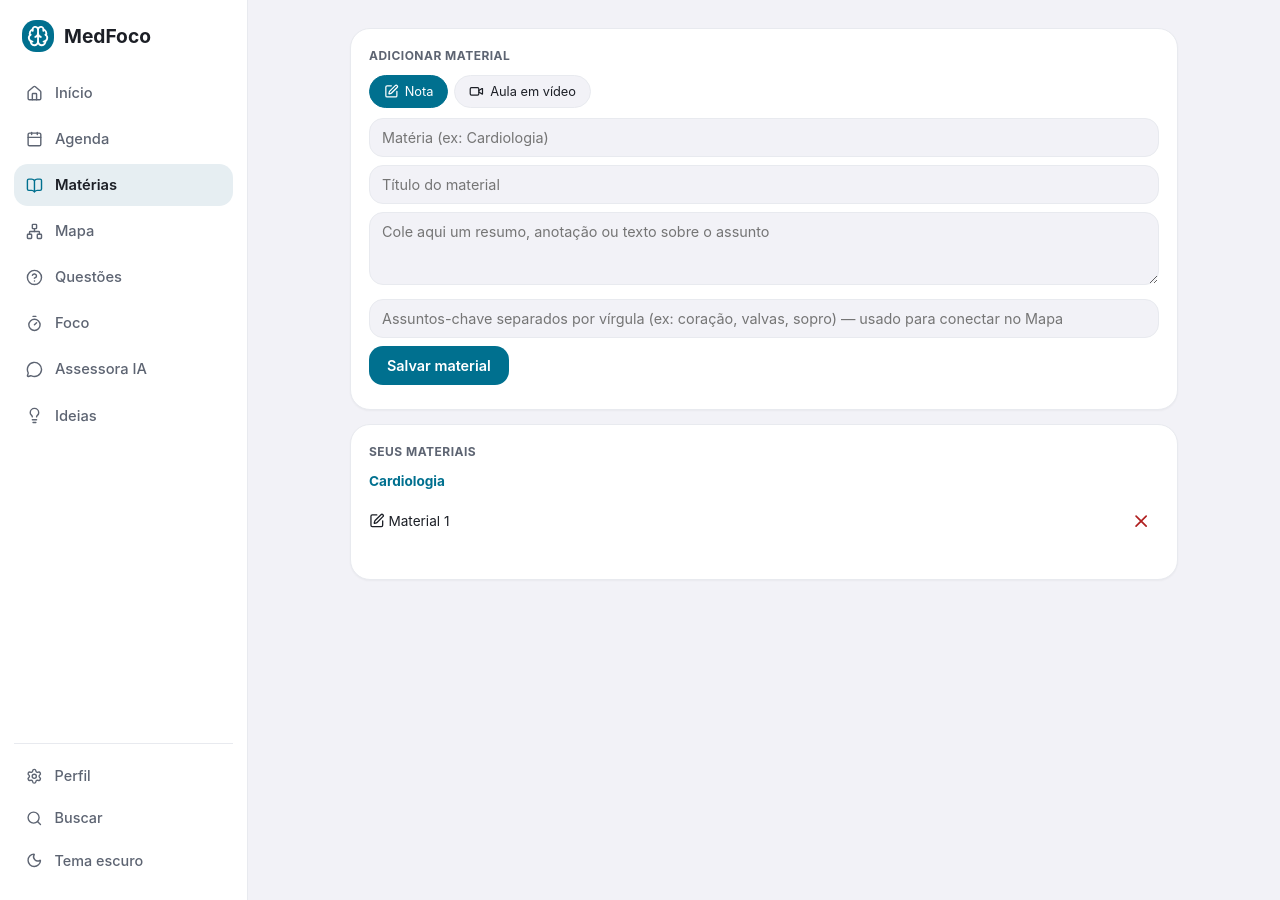
Matérias › exclusão › mostra erro acessível se a exclusão falhar e mantém o material
What coordinates should you click on to do the following:
click the button named "Excluir material Material 1"
I would click on:
 (1141, 521)
Its box is 1123,503 -> 1159,539.
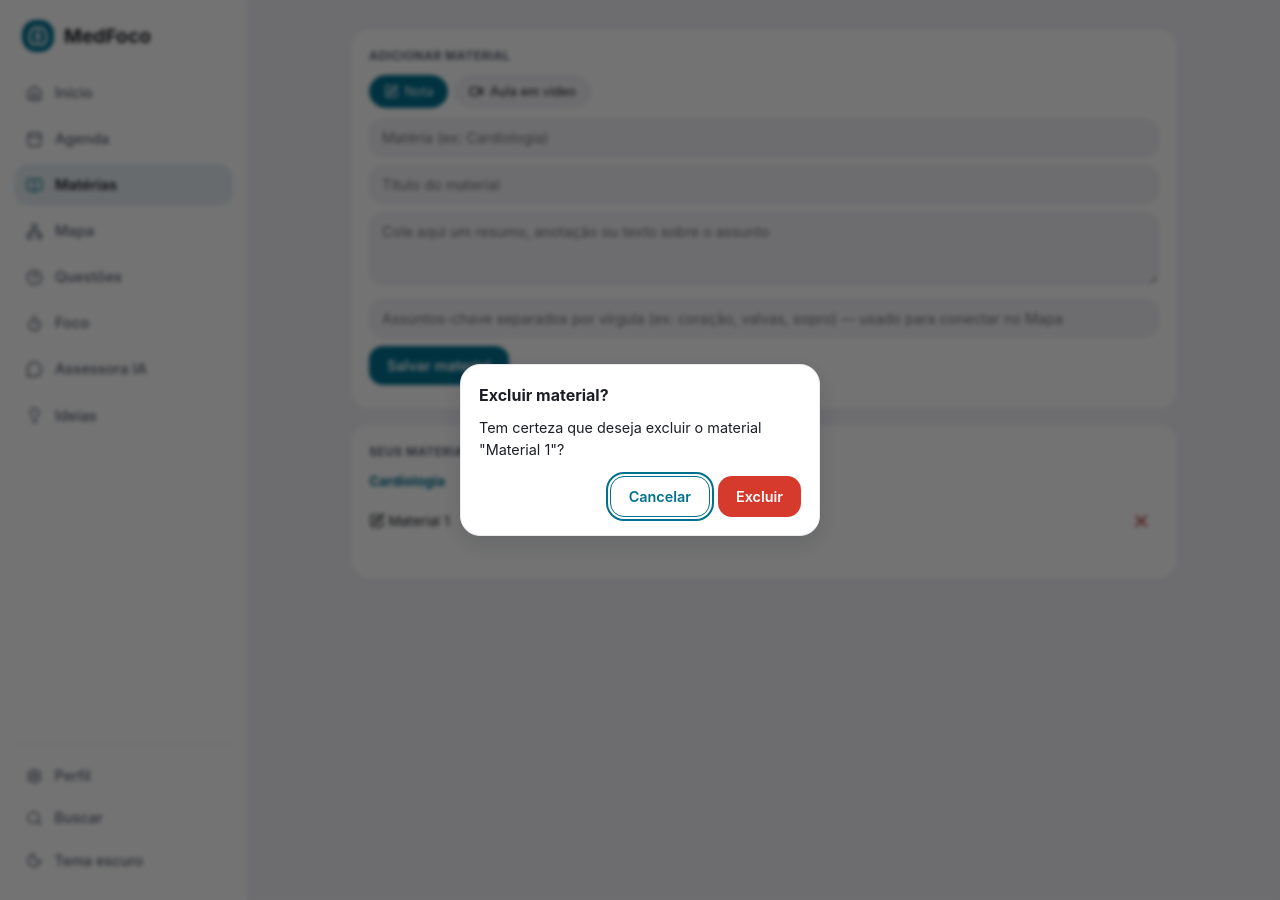
What coordinates should you click on to do the following:
click the button "Excluir"
I would click on:
 (760, 497)
Its box is 718,476 -> 801,517.
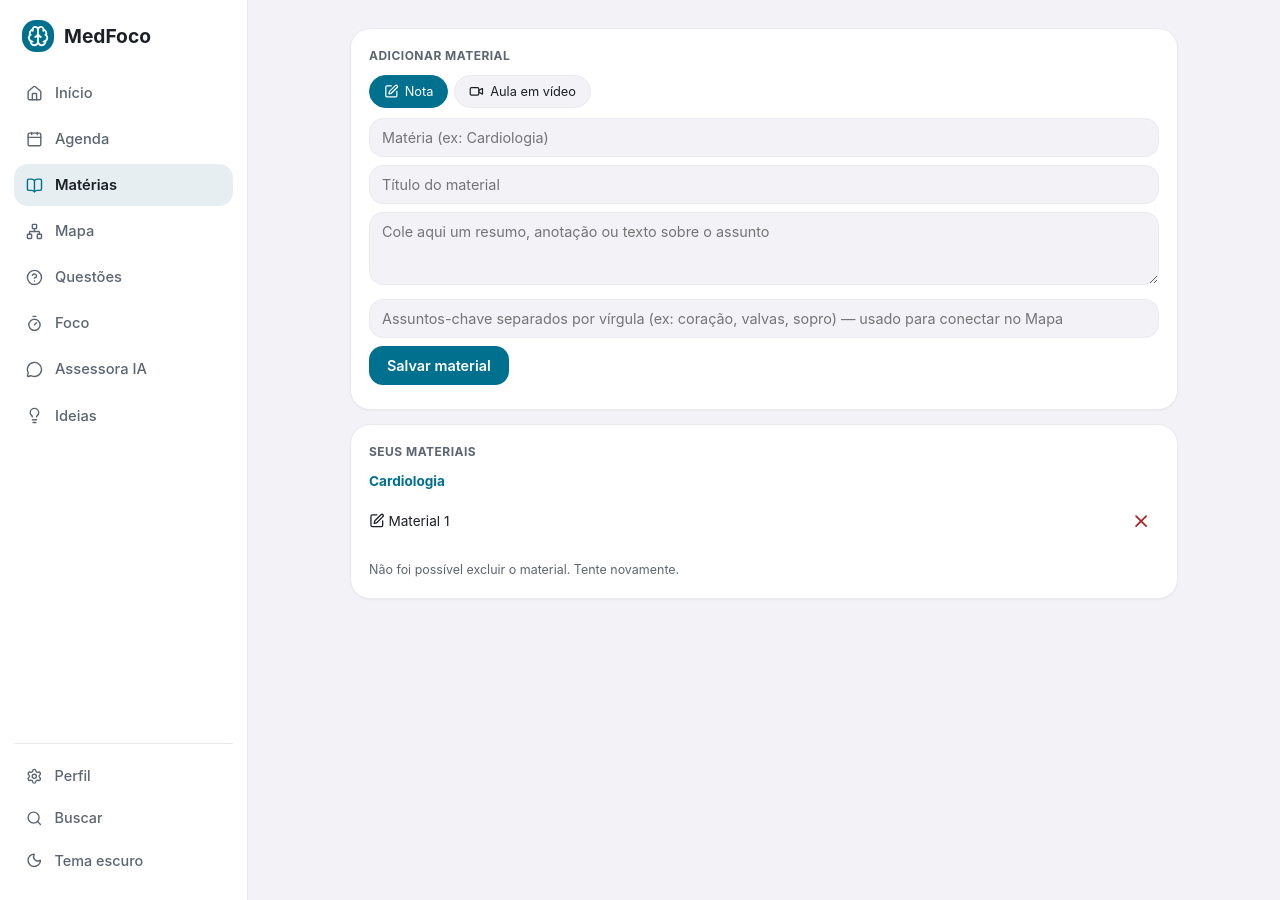
Expected: the text "Material 1" is shown, 369,513 -> 449,529
Expected: the text "Não foi possível excluir o material. Tente novamente." is shown, 369,562 -> 679,577
